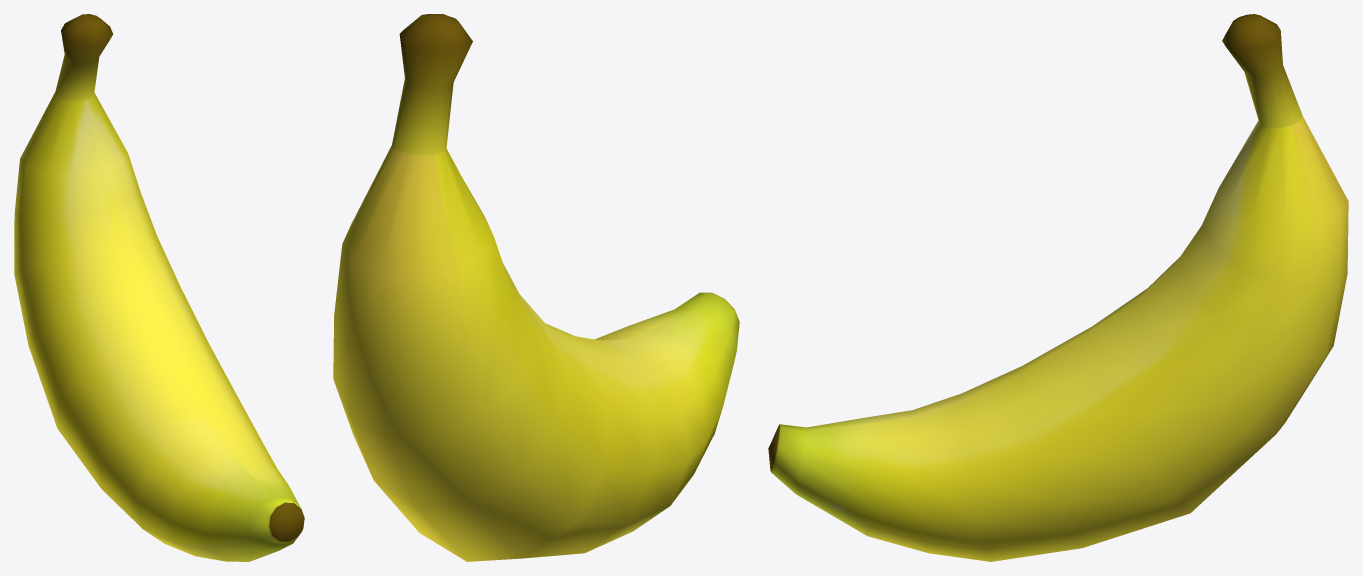
The model's file is banana.fbx.
3 views of the same model, side by side, from view 1: azimuth 30°, elevation 25°; view 2: azimuth 150°, elevation 25°; view 3: azimuth 270°, elevation 25° (orthographic). The views are drawn at different scales.
Parts seen in each view (by area): view 1: Banana; view 2: Banana; view 3: Banana.
Part boxes in pixels (x1=…): Banana: x1=14, y1=14, x2=304, y2=561; Banana: x1=333, y1=14, x2=739, y2=561; Banana: x1=768, y1=14, x2=1348, y2=561.
Size of the model in its own units: 43.74 by 126 by 124.
1 material, 1 textured.
